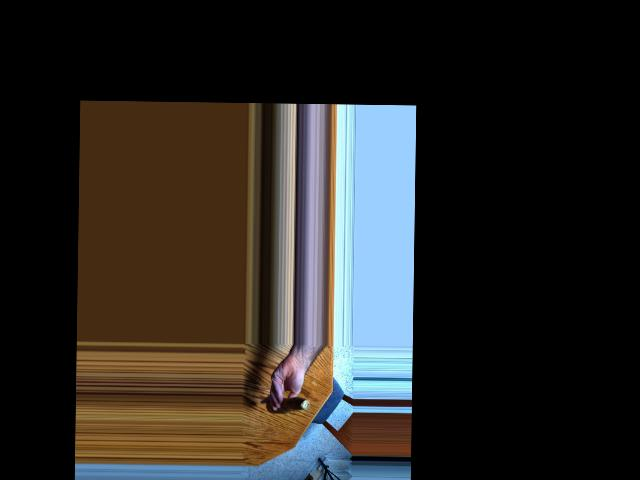sweet_potato: (271, 392, 308, 416)
